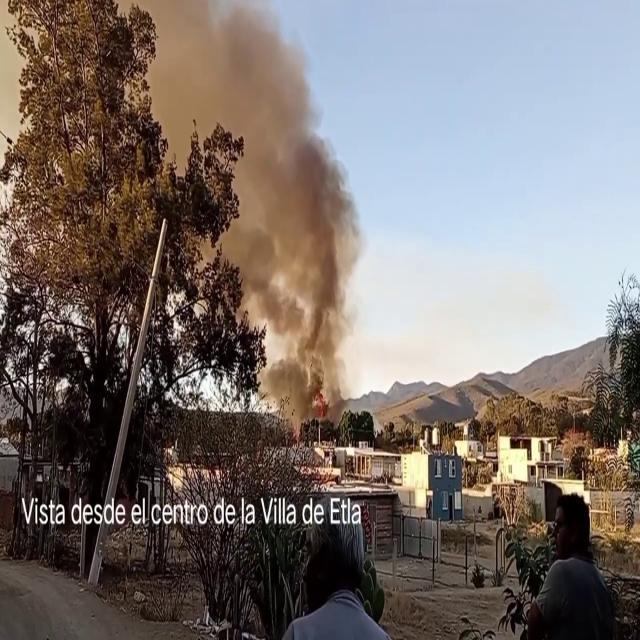Smoke: (214, 2, 367, 394)
